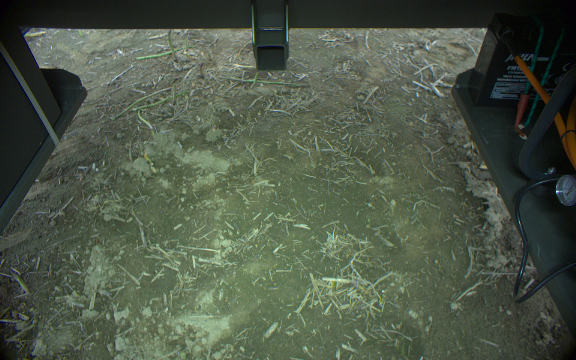aspa: (115, 84, 174, 121), (131, 88, 191, 111), (223, 74, 305, 88), (131, 45, 187, 60), (165, 28, 179, 62), (135, 109, 153, 132), (247, 70, 260, 91)
